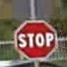stop: (13, 18, 57, 59)
